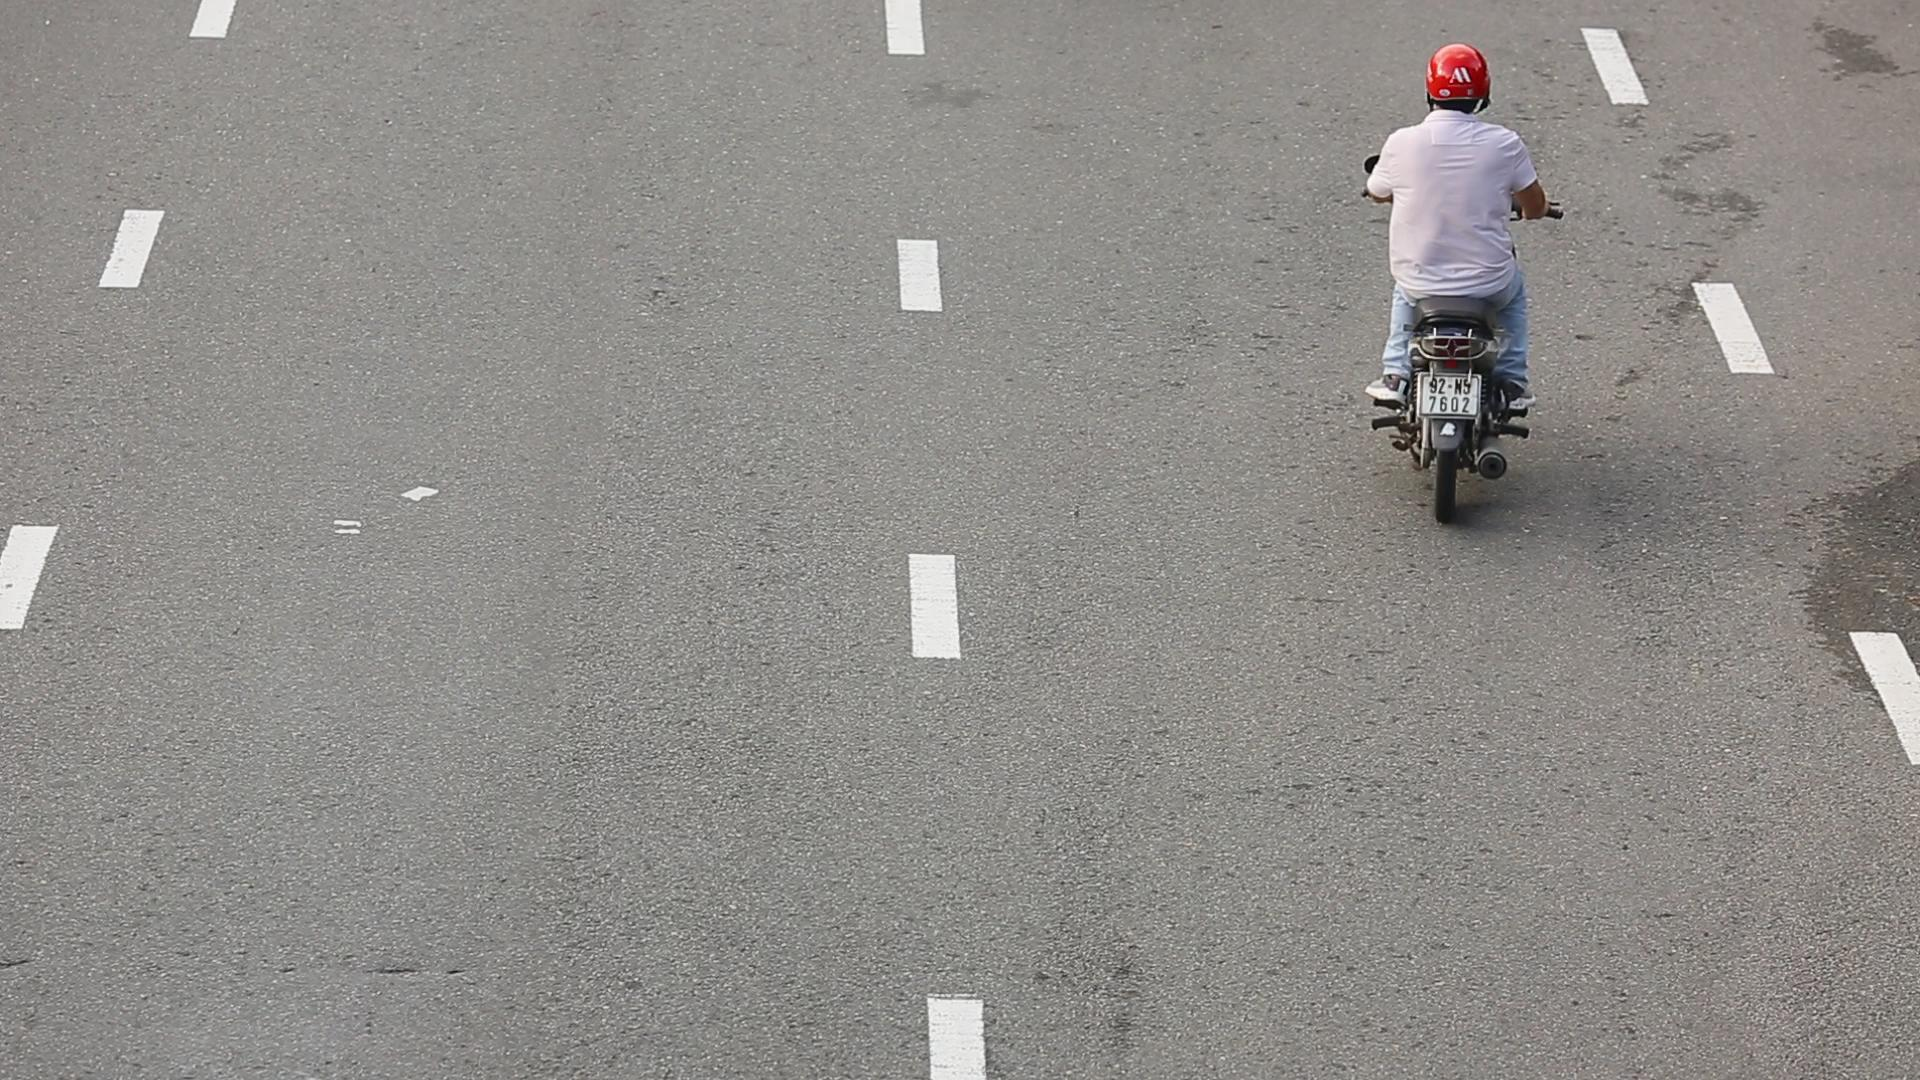motobike: (1338, 30, 1572, 525)
